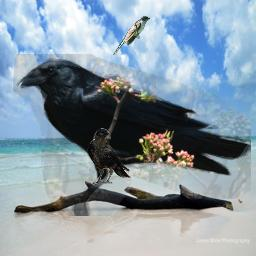Crow: (9, 54, 251, 216), (87, 128, 131, 184)
Cuckoo: (113, 16, 150, 55)
